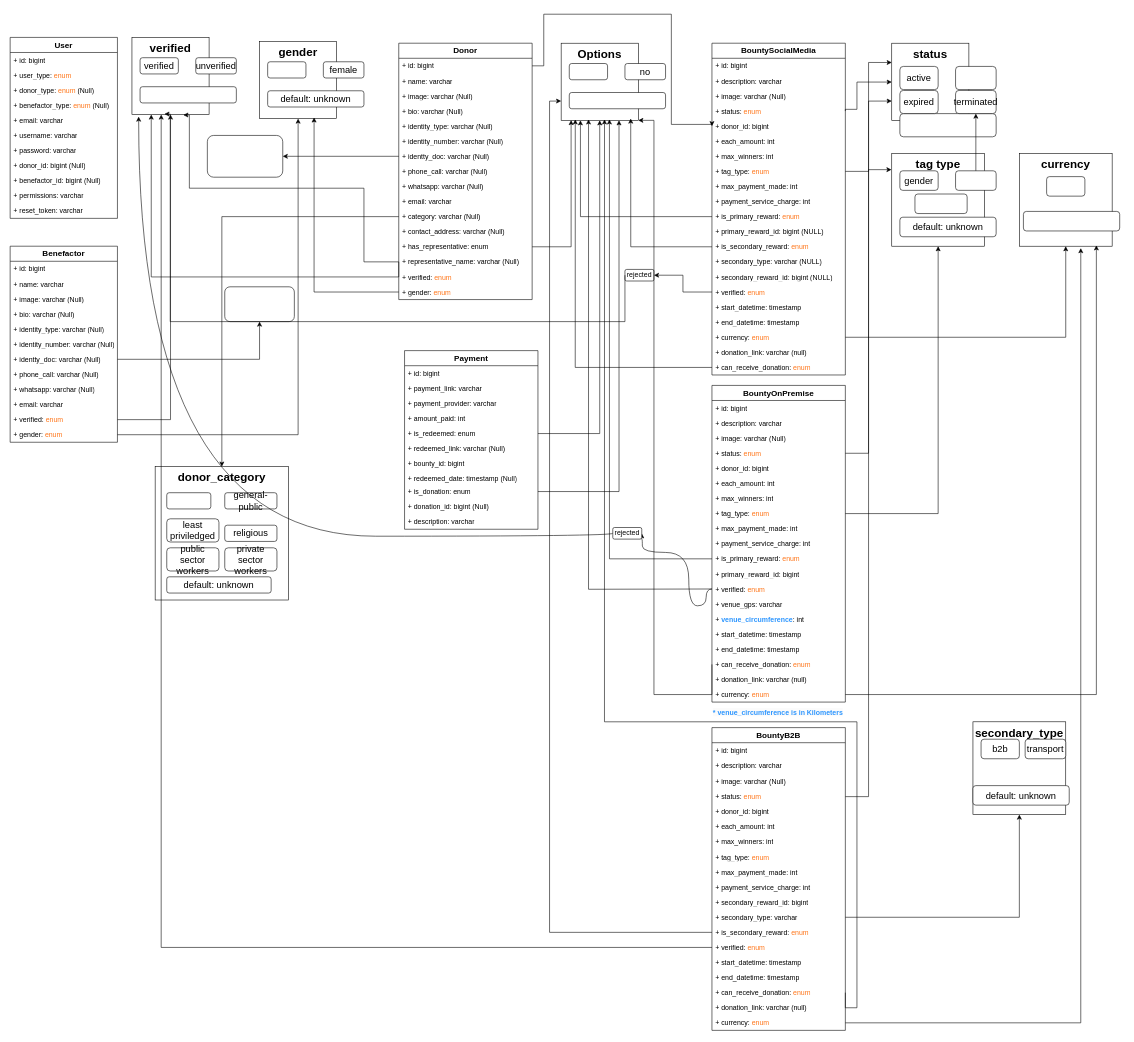
The diagram is 1134 pixels wide and 1042 high, and some of its shapes have lost their labels. The centre of each missing label's shape, as x and y in pixels:
age: point (975, 180)
CAC document(for business)/National ID Card: point (245, 156)
default: inactive: point (947, 125)
default: naira: point (1071, 221)
default: no: point (617, 100)
default: unverified: point (187, 94)
education: point (188, 500)
inactive: point (975, 78)
male: point (286, 69)
naira: point (1065, 186)
National Identity Card: point (259, 304)
occupation: point (940, 203)
yes: point (588, 71)
